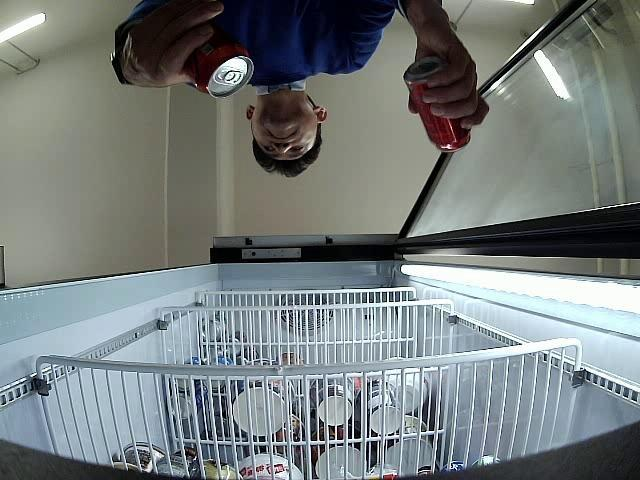11_cocaColaZero: (403, 56, 470, 153), (178, 27, 256, 98)
